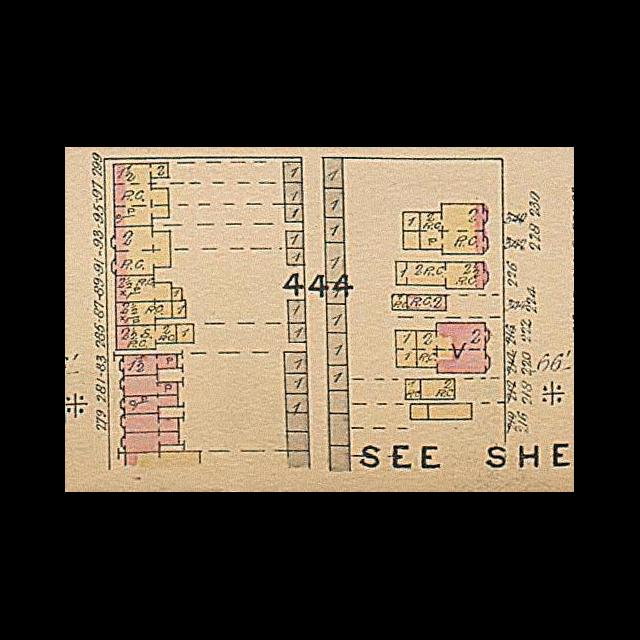building-footprints: (396, 324, 490, 374), (114, 164, 170, 228), (420, 204, 488, 254), (112, 227, 171, 276), (397, 262, 488, 289), (116, 276, 183, 303), (117, 325, 177, 350), (116, 302, 172, 326), (121, 375, 178, 397), (122, 432, 180, 453), (121, 355, 178, 376), (122, 414, 179, 433), (121, 396, 179, 414), (126, 452, 200, 466), (326, 243, 345, 283), (429, 404, 473, 420), (421, 380, 456, 400), (328, 332, 348, 366), (330, 414, 350, 446), (408, 295, 447, 311), (324, 188, 344, 218), (324, 158, 343, 189), (327, 305, 347, 333), (329, 365, 349, 391), (326, 218, 345, 243), (331, 446, 350, 471), (286, 373, 308, 394), (329, 391, 349, 414), (285, 353, 307, 373), (286, 394, 309, 413), (287, 432, 309, 451), (287, 413, 309, 432), (327, 283, 346, 305), (288, 301, 306, 324), (283, 163, 303, 183), (285, 183, 303, 204), (289, 323, 307, 343), (289, 451, 310, 468), (286, 204, 304, 223), (287, 248, 305, 266), (286, 231, 304, 249), (177, 325, 194, 344), (404, 213, 421, 232), (404, 231, 421, 250), (406, 380, 421, 400), (411, 404, 429, 420), (393, 295, 408, 311), (173, 301, 186, 319)
